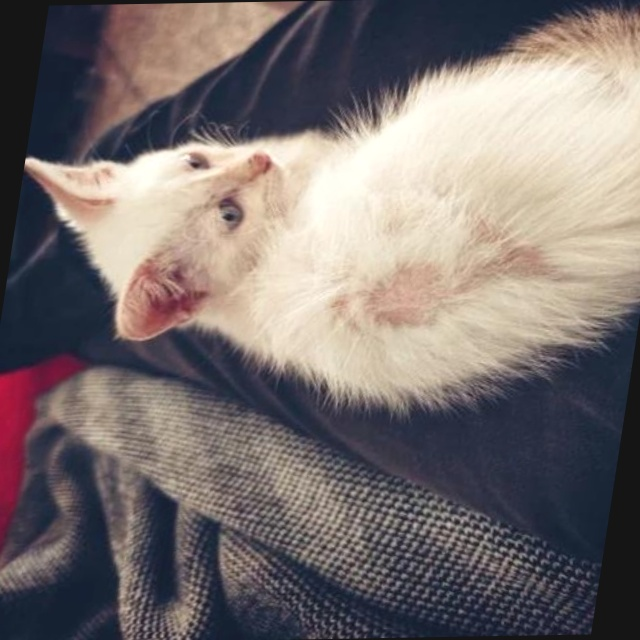hairloss: (355, 233, 550, 321)
